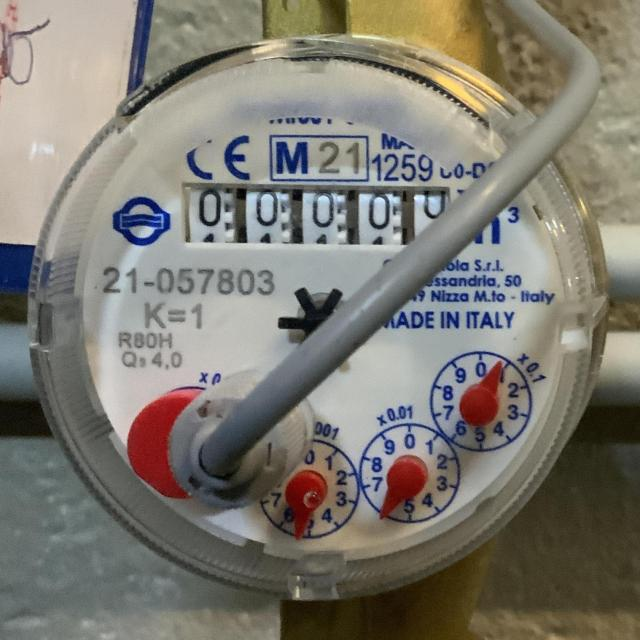gaz_meter: (36, 34, 614, 594)
indication: (186, 182, 456, 245)
